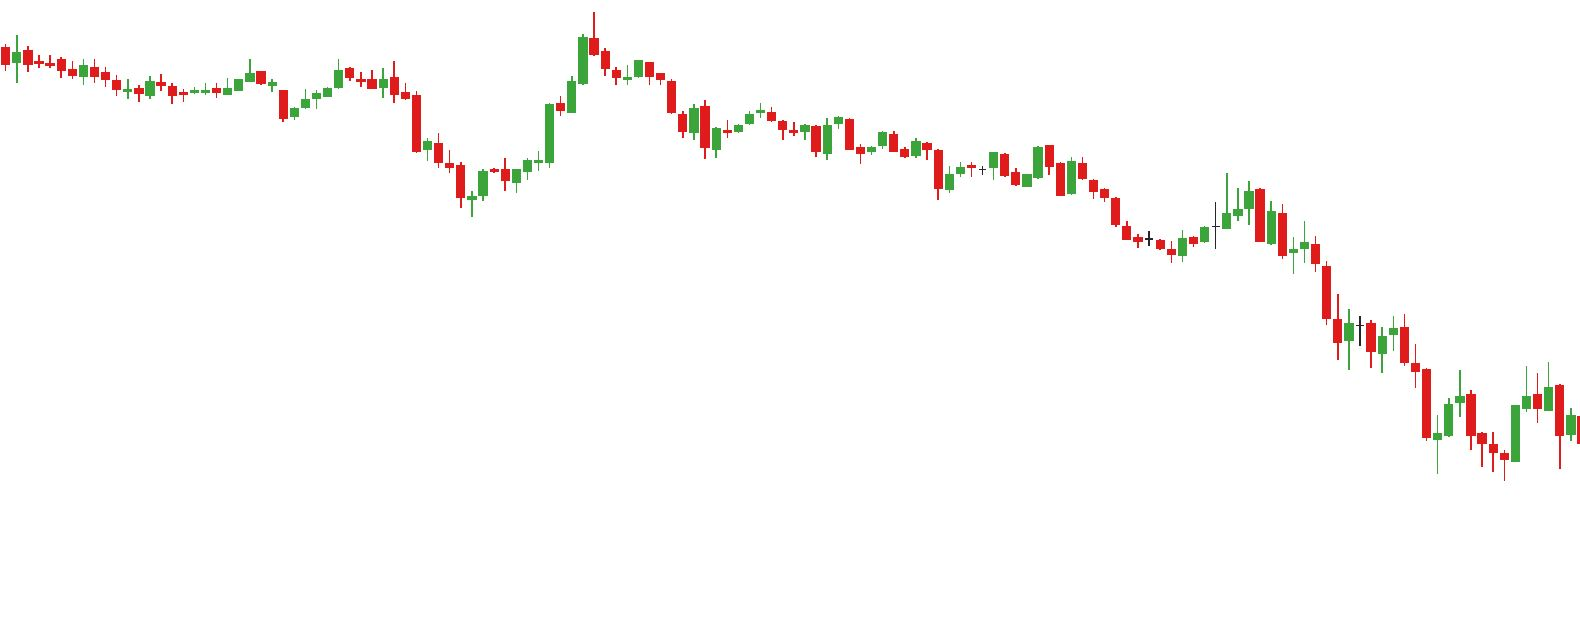sell: (1455, 361, 1542, 444)
